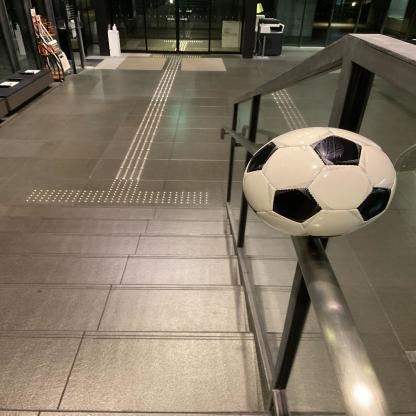ball: (246, 125, 395, 237)
